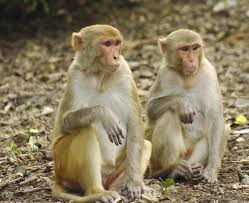monkey: (13, 6, 249, 187)
